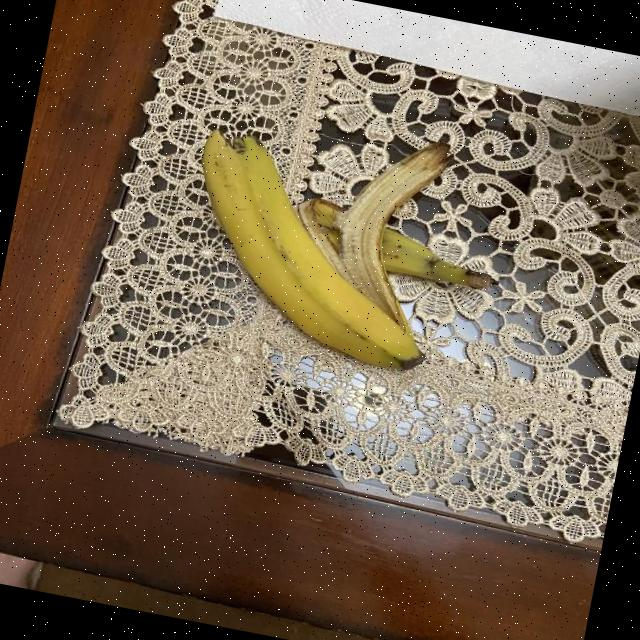banana-peel: (167, 97, 514, 386)
